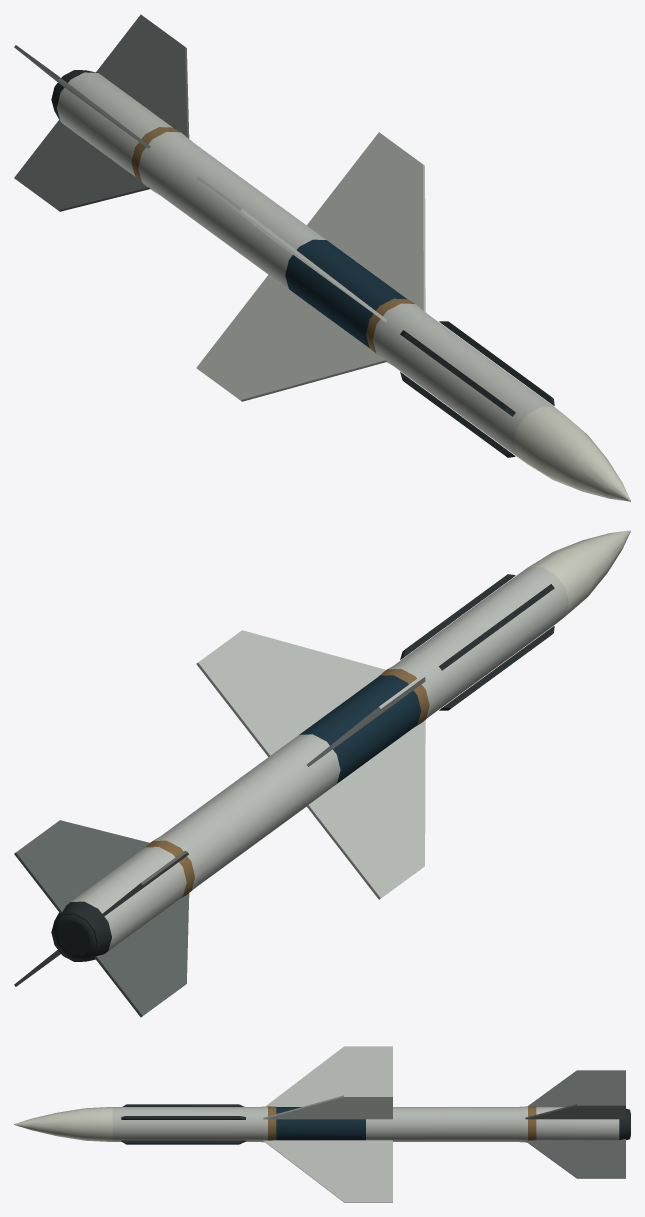
File: sam_sea_sparrow.glb
3 views of the same model, one above another, from view 1: azimuth 30°, elevation 25°; view 2: azimuth 150°, elevation 25°; view 3: azimuth 270°, elevation 25° (orthographic). The views are drawn at different scales.
Parts seen in each view (by area): view 1: SAM_Sea_Sparrow.001; view 2: SAM_Sea_Sparrow.001; view 3: SAM_Sea_Sparrow.001.
Part boxes in pixels (x1,y1,x2,y2): SAM_Sea_Sparrow.001: (14, 14, 630, 501); SAM_Sea_Sparrow.001: (14, 530, 630, 1017); SAM_Sea_Sparrow.001: (14, 1046, 630, 1202).
Bounding box in the file's own units: 0.7 × 0.7 × 3.66.
